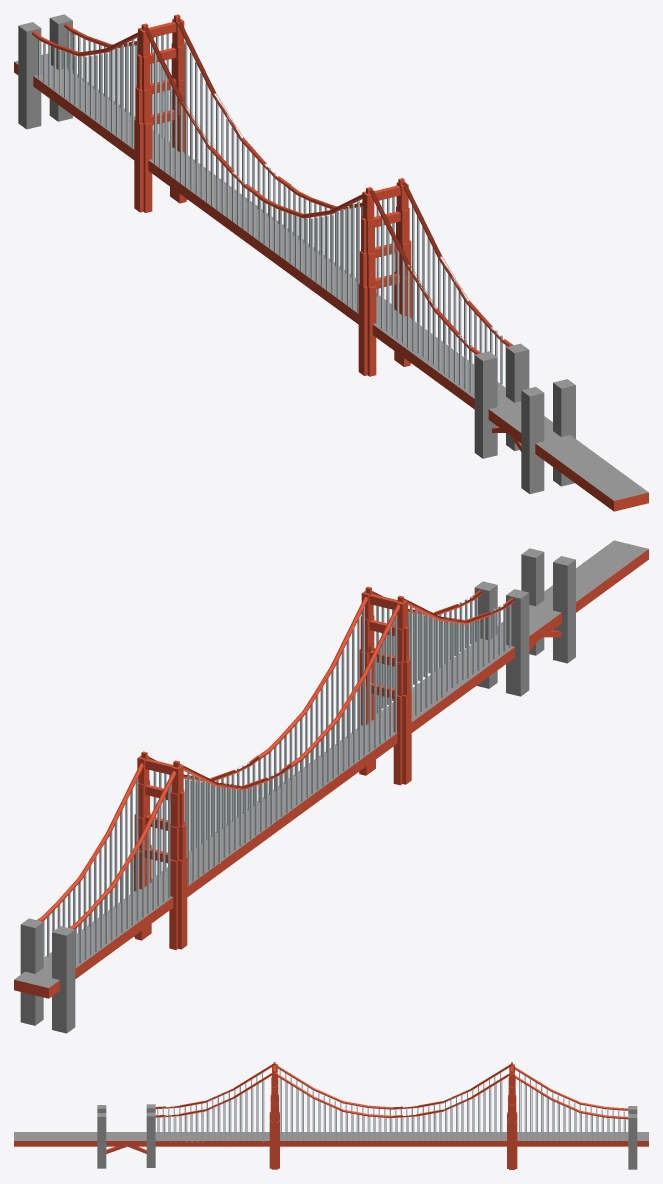
The model's file is poly-golden-gate.glb.
3 renders of one model, top to bottom at view 1: azimuth 30°, elevation 25°; view 2: azimuth 150°, elevation 25°; view 3: azimuth 270°, elevation 25°, orthographic. The views are drawn at different scales.
Visible parts, largest first — view 1: Node; view 2: Node; view 3: Node.
Boxes of the visible parts, box(x1,y1,x2,y2) form: Node: box(14, 14, 648, 511); Node: box(14, 540, 648, 1033); Node: box(14, 1062, 648, 1169).
Size of the model in its own units: 0.4304 by 1.58 by 9.23.
